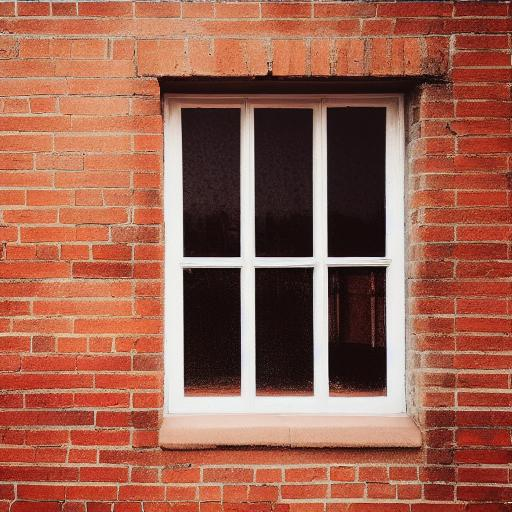Window: (152, 34, 454, 452)
